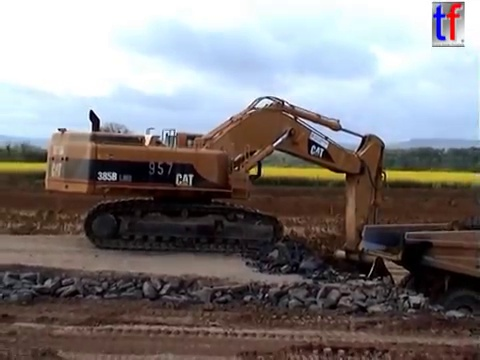excavator: (40, 93, 397, 311)
truck: (355, 216, 480, 344)
